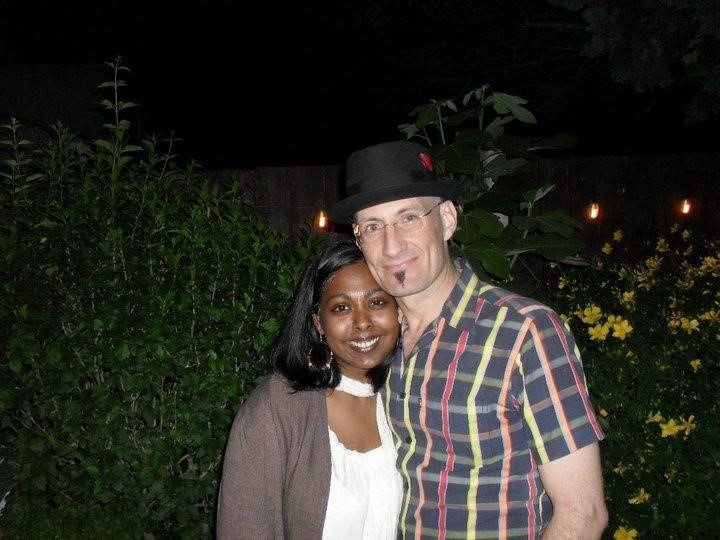face_no_mask: (299, 240, 400, 366), (350, 177, 453, 298)
